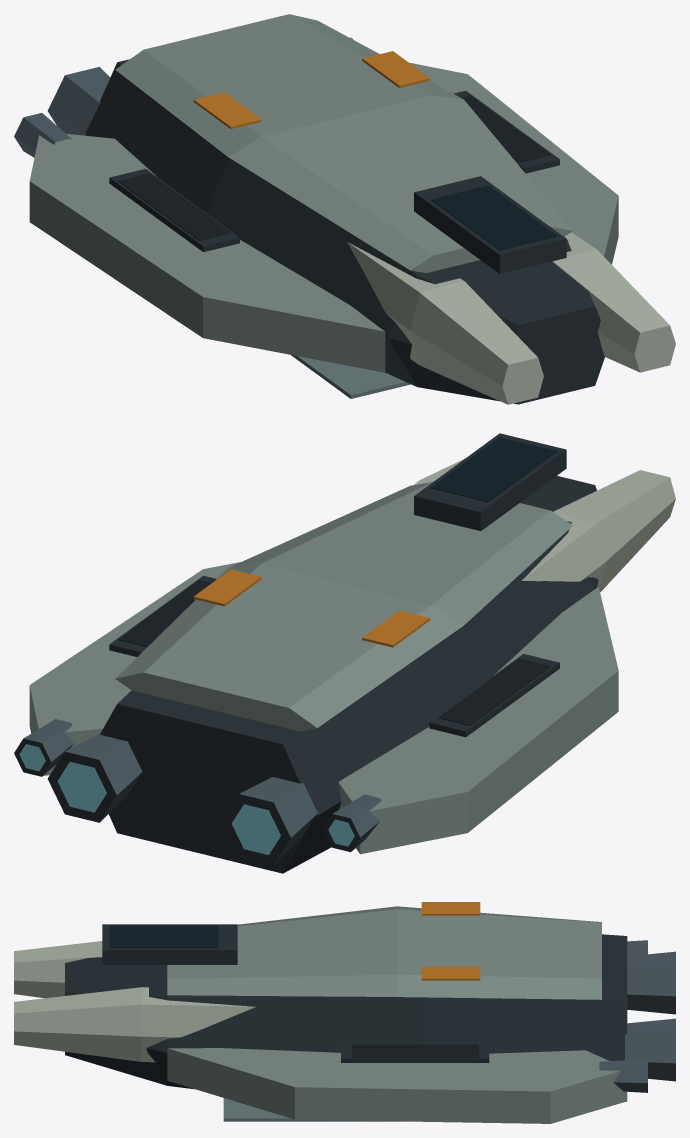
The model's file is bomber-low.glb.
The picture shows the model from 3 angles, top to bottom: view 1: azimuth 30°, elevation 25°; view 2: azimuth 150°, elevation 25°; view 3: azimuth 270°, elevation 25°; orthographic projection. The views are drawn at different scales.
Visible parts, largest first — view 1: AV_bomber-low; view 2: AV_bomber-low; view 3: AV_bomber-low.
Part boxes in pixels (x1,y1,x2,y2): AV_bomber-low: [14, 14, 675, 404]; AV_bomber-low: [14, 433, 675, 873]; AV_bomber-low: [14, 902, 675, 1123].
Size of the model in its own units: 1.15 by 0.4617 by 1.9.
Materials: 1 (1 with a texture image).
